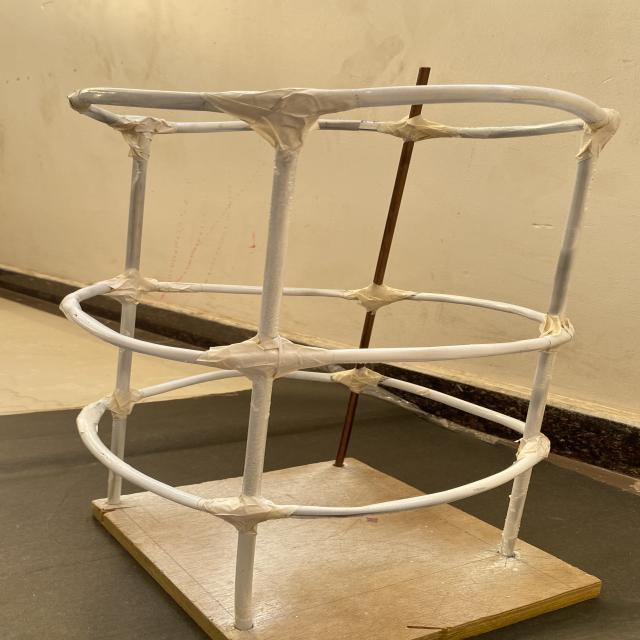silo: (23, 46, 640, 640)
